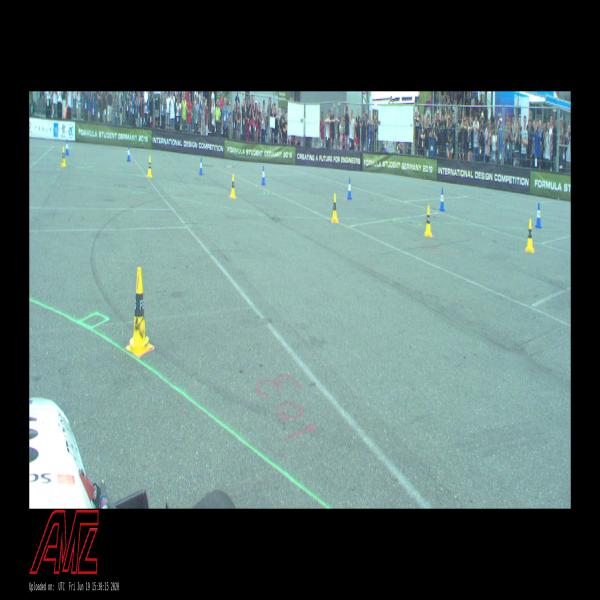blue_cone: (536, 204, 542, 228), (261, 166, 266, 185), (440, 188, 444, 210), (348, 178, 352, 199), (199, 158, 203, 174), (127, 145, 131, 161), (65, 140, 69, 154)
yellow_cone: (126, 268, 152, 355), (526, 219, 534, 251), (425, 206, 432, 236), (331, 193, 338, 222), (230, 174, 236, 198), (60, 146, 66, 166), (147, 157, 152, 176)
